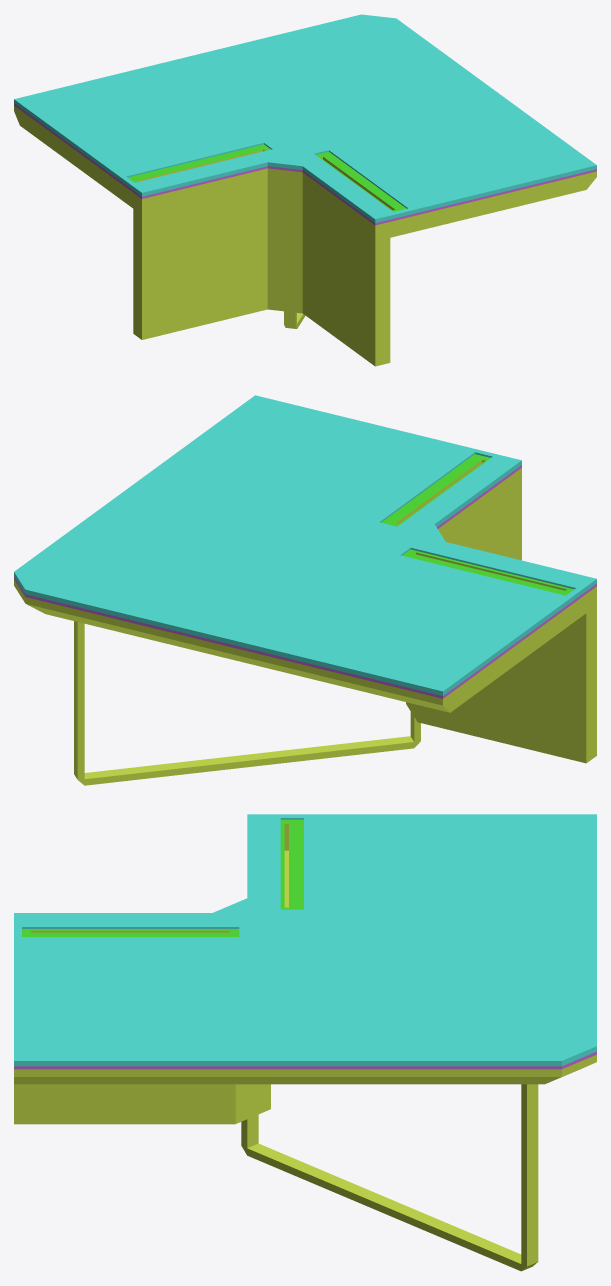
Rendered from Table_07_Corner.fbx.
3 views of the same model, one above another, from view 1: azimuth 30°, elevation 25°; view 2: azimuth 150°, elevation 25°; view 3: azimuth 270°, elevation 25° (orthographic). The views are drawn at different scales.
Parts seen in each view (by area): view 1: Table_07_Corner; view 2: Table_07_Corner; view 3: Table_07_Corner.
Boxes of the visible parts, <box> form: Table_07_Corner: <box>14,14,596,366</box>; Table_07_Corner: <box>14,395,596,785</box>; Table_07_Corner: <box>14,814,596,1271</box>.
Size of the model in its own units: 183 by 82.3 by 183.
